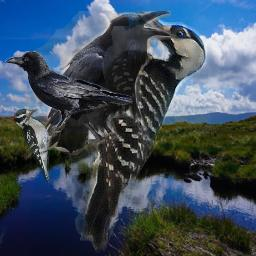Crow: (26, 11, 171, 160), (5, 51, 133, 130)
Woodpecker: (60, 11, 209, 253), (14, 109, 61, 183)
